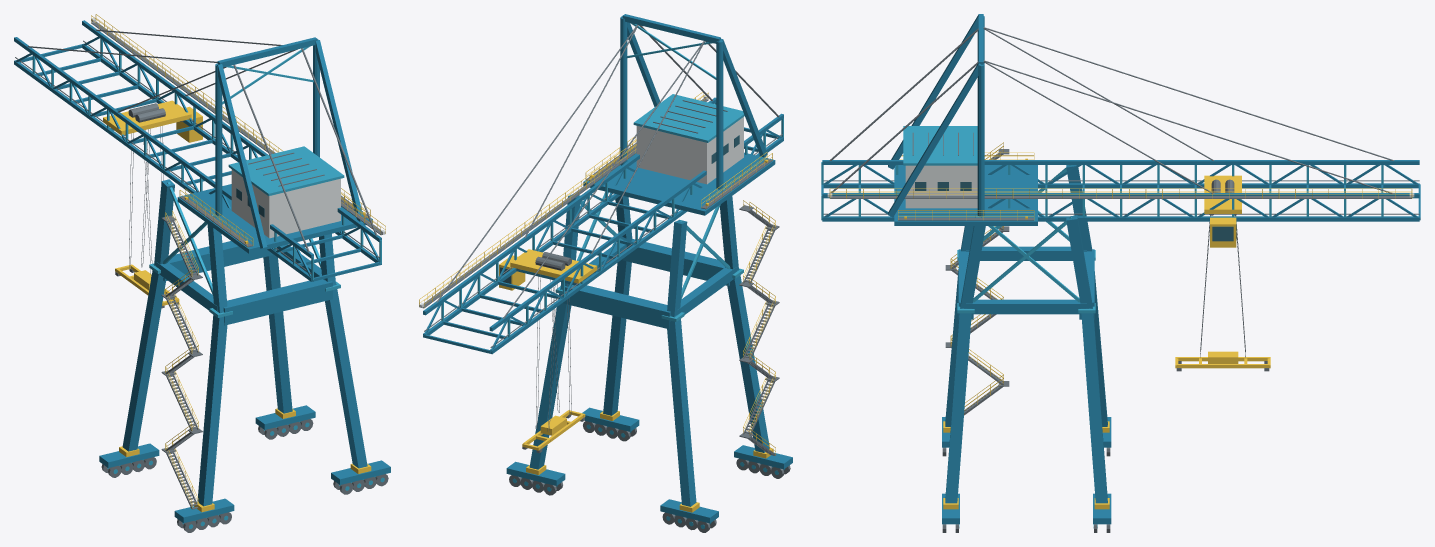
The model's file is smarttwin_sts_crane.glb.
The picture shows the model from 3 angles, left to right: view 1: azimuth 30°, elevation 25°; view 2: azimuth 150°, elevation 25°; view 3: azimuth 270°, elevation 25°; orthographic projection. The views are drawn at different scales.
Parts seen in each view (by area): view 1: portal, machinery, boom_fixed, bogies, access, stays, trolley, hoist_ropes, spreader; view 2: portal, machinery, boom_fixed, bogies, access, stays, trolley, hoist_ropes, spreader; view 3: boom_fixed, portal, machinery, stays, trolley, bogies, access, spreader.
Boxes of the visible parts, box(x1,y1,x2,y2) form: portal: box(122, 179, 367, 506); machinery: box(177, 37, 372, 253); boom_fixed: box(14, 14, 385, 281); bogies: box(99, 405, 390, 532); access: box(161, 211, 202, 509); stays: box(27, 29, 377, 252); trolley: box(103, 100, 202, 142); hoist_ropes: box(129, 126, 163, 278); spreader: box(115, 264, 179, 308); portal: box(529, 186, 769, 506); machinery: box(583, 14, 775, 215); boom_fixed: box(419, 92, 783, 354); bogies: box(506, 407, 792, 532); access: box(739, 200, 779, 455); stays: box(436, 24, 779, 318); trolley: box(499, 249, 597, 290); hoist_ropes: box(535, 274, 571, 431); spreader: box(522, 410, 585, 453); boom_fixed: box(821, 160, 1420, 221); portal: box(945, 165, 1107, 503); machinery: box(888, 14, 1037, 225); stays: box(829, 27, 1394, 193); trolley: box(1204, 175, 1241, 247); bogies: box(942, 417, 1111, 532); access: box(945, 142, 1009, 415); spreader: box(1175, 351, 1270, 371).
Size of the model in its own units: 31.8 by 65.32 by 79.29.
